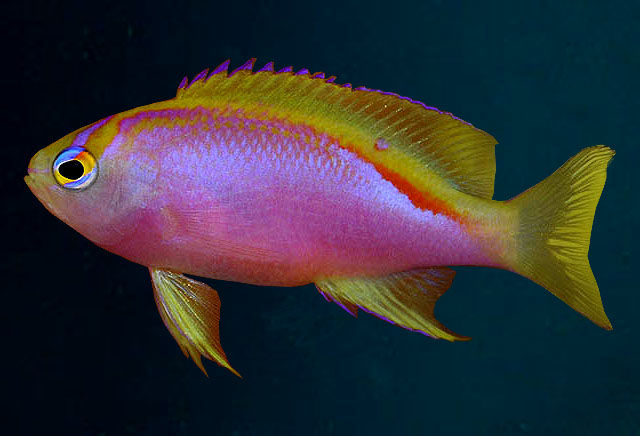fish: (24, 58, 616, 378)
